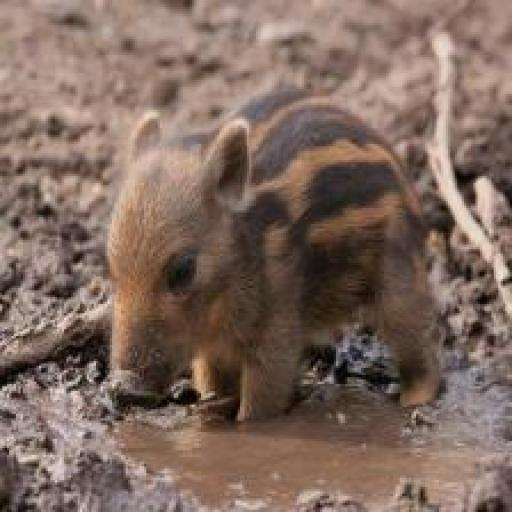Pig: (96, 89, 440, 420)
